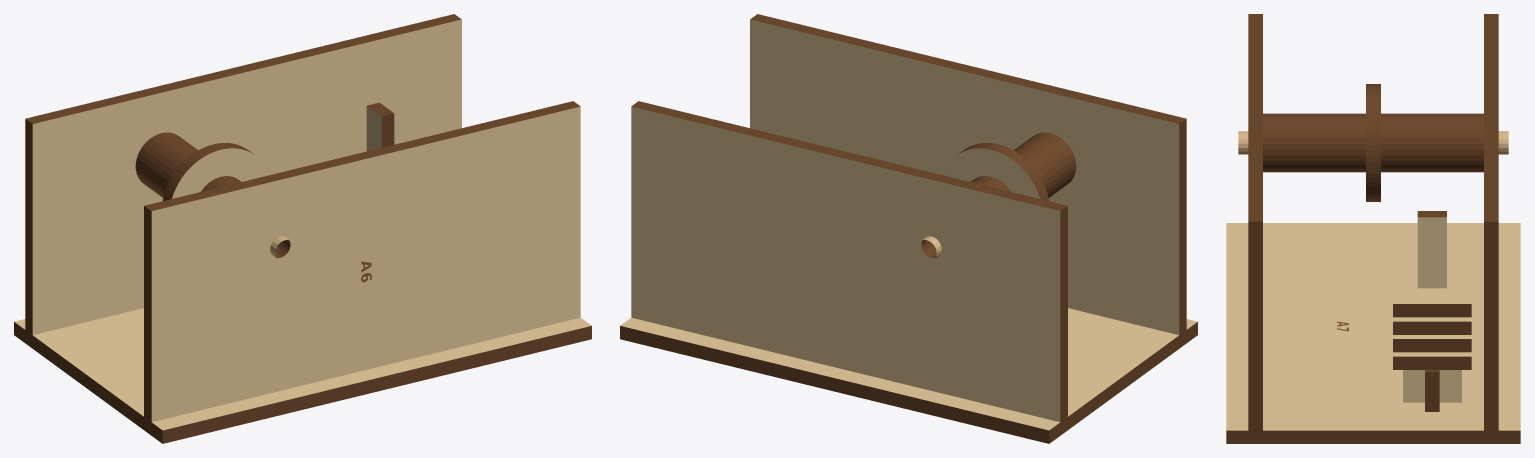
File: proofbox.glb
The picture shows the model from 3 angles, left to right: view 1: azimuth 30°, elevation 25°; view 2: azimuth 150°, elevation 25°; view 3: azimuth 270°, elevation 25°; orthographic projection.
Visible parts, largest first — view 1: A6 (×2), A7, A5, A2 (×3), A8; view 2: A6 (×2), A7, A5, A2 (×3); view 3: A7, A2 (×14), A6 (×2), A4, A8, A5, A3, A9, A10, A1, A11, axle.
Boxes of the visible parts, x1,y1,x2,y2 form: A6 (×2): (25, 14, 580, 422); A7: (14, 308, 591, 443); A5: (163, 143, 269, 200); A2 (×3): (135, 132, 197, 197); A8: (366, 102, 394, 151); A6 (×2): (631, 14, 1186, 422); A7: (620, 308, 1197, 443); A5: (942, 143, 1048, 200); A2 (×3): (1014, 132, 1076, 197); A7: (1226, 223, 1520, 443); A2 (×14): (1263, 113, 1483, 172); A6 (×2): (1248, 14, 1498, 430); A4: (1393, 266, 1471, 317); A8: (1417, 211, 1446, 288); A5: (1366, 84, 1380, 201); A3: (1403, 370, 1461, 402); A9: (1393, 352, 1471, 369); A10: (1393, 335, 1471, 352); A1: (1393, 317, 1471, 334); A11: (1425, 370, 1439, 411); axle: (1238, 131, 1508, 154).
Bounding box in the file's own units: 0.1 × 0.05 × 0.06.
